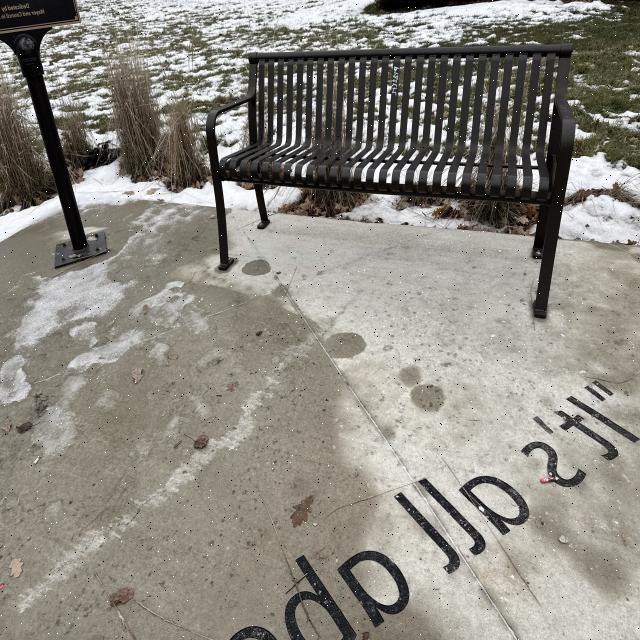Bench: (201, 40, 581, 284)
